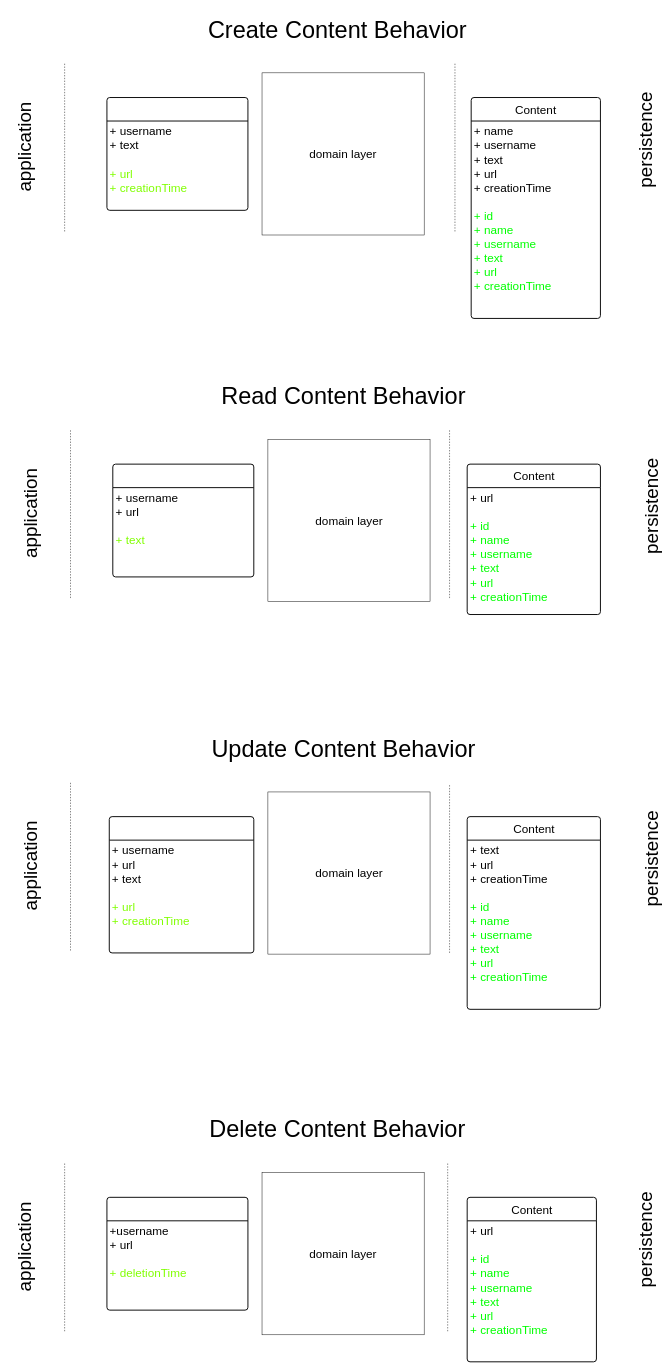
This 670x1370 diagram has some shape labels left out. The box of each missing label's shape, as (x1, y1, x2, y2) in pixels:
CreateContentCommand: (106, 97, 248, 211)
DeleteContentCommand: (106, 1197, 248, 1310)
ReadContentCommand: (112, 463, 254, 577)
UpdateContentCommand: (109, 816, 254, 953)
